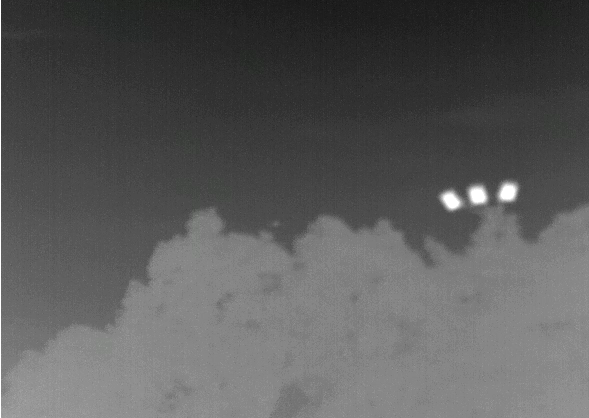dim target: (272, 220, 280, 228)
